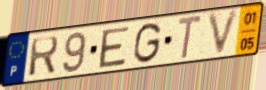9: (60, 30, 89, 74)
E: (98, 24, 132, 70)
G: (131, 21, 164, 65)
R: (27, 35, 61, 79)
T: (176, 14, 204, 63)
V: (206, 7, 242, 59)
